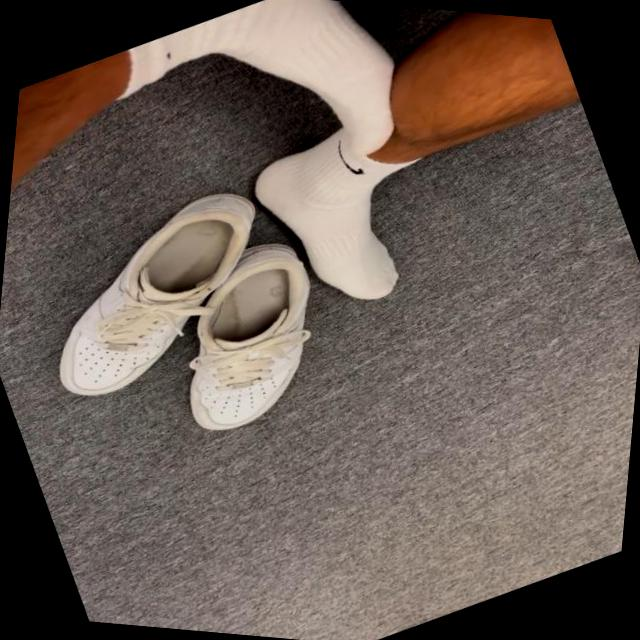nike_original_airforce: (0, 156, 316, 430), (121, 214, 365, 460)
